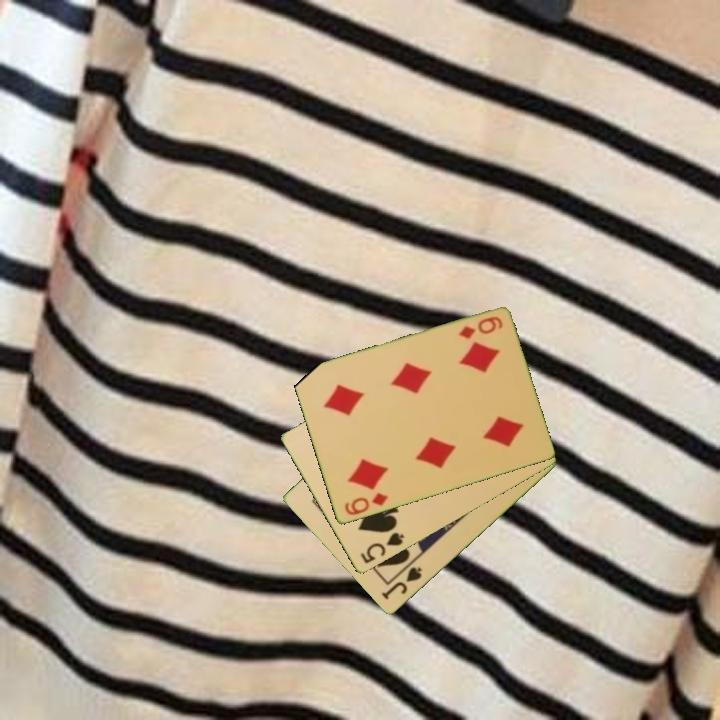5s: (357, 529, 407, 567)
6d: (341, 489, 390, 519), (455, 313, 505, 342)
Js: (378, 564, 425, 603)
